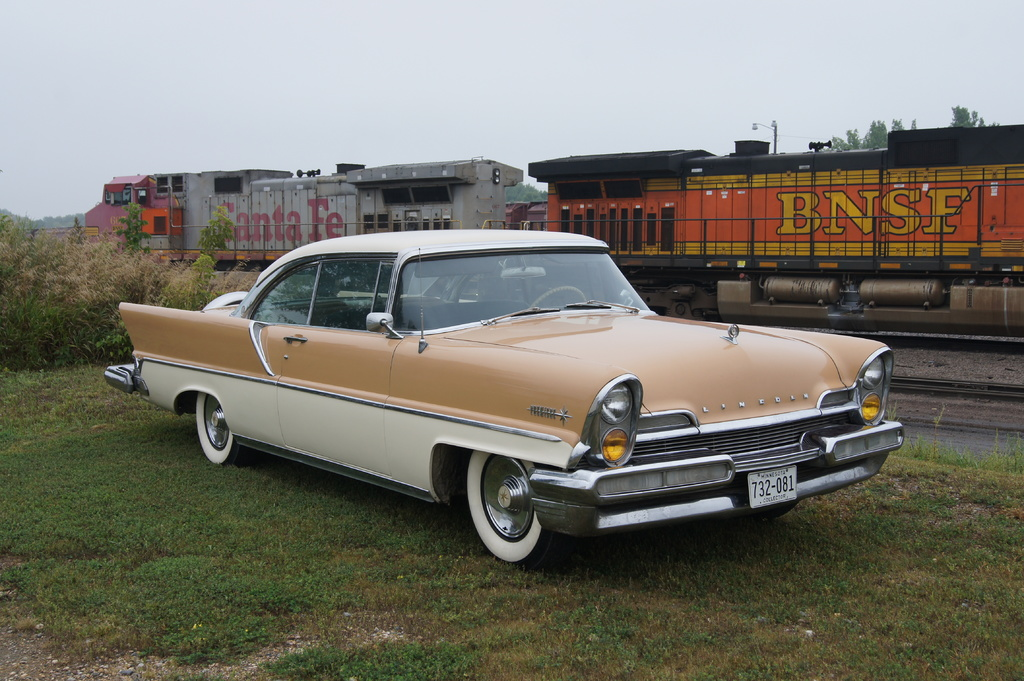Car: (117, 243, 899, 560)
